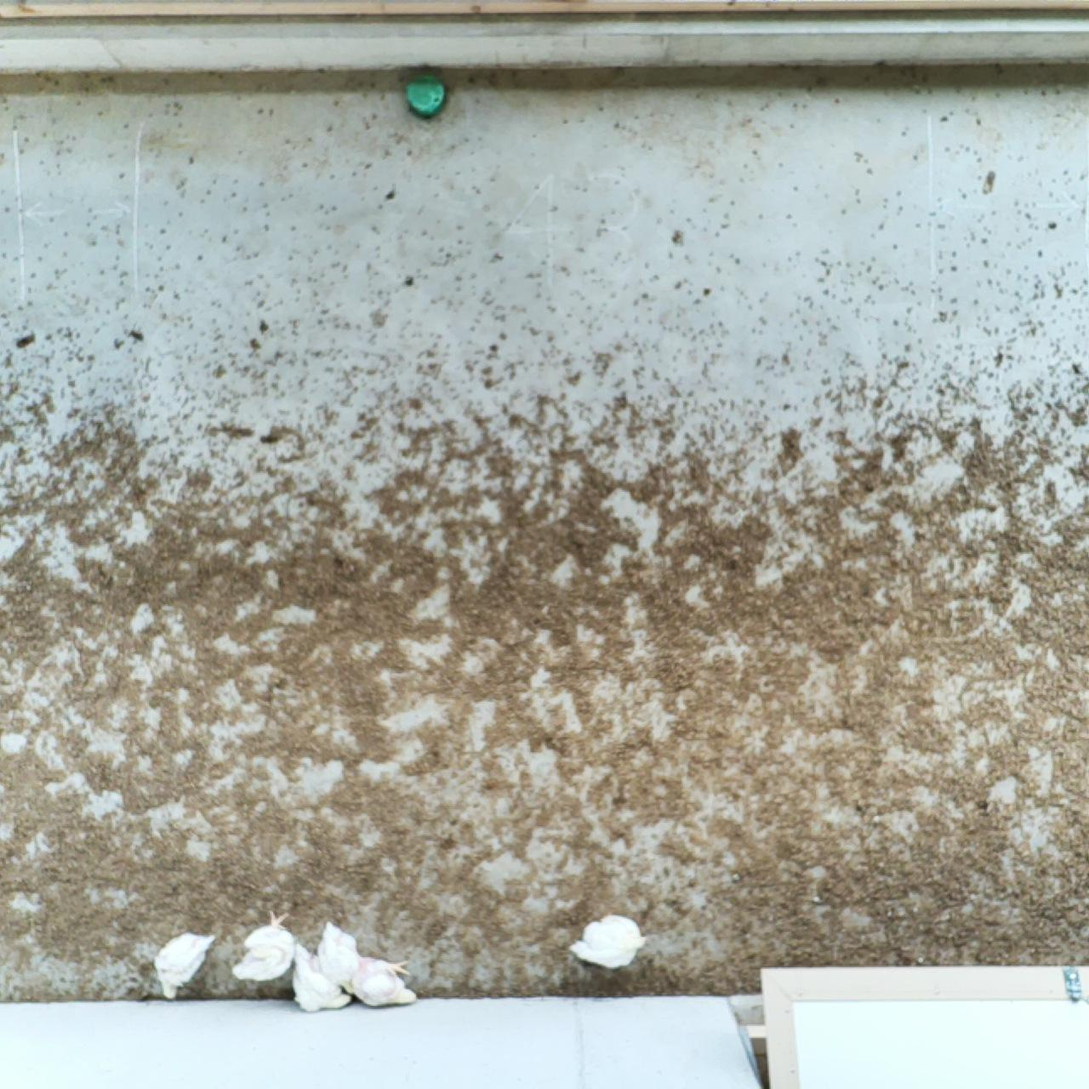chicken: (155, 927, 221, 1006), (228, 909, 297, 983), (291, 941, 354, 1017), (568, 912, 649, 971), (341, 955, 418, 1013), (314, 919, 365, 997)
